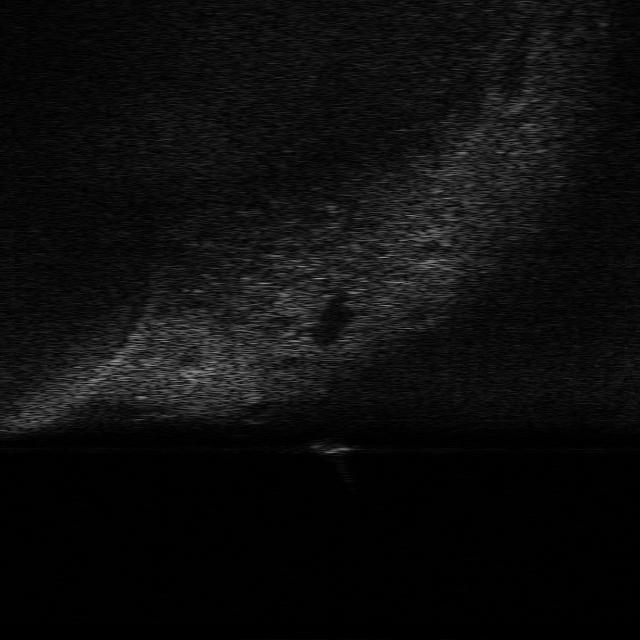cube: (306, 436, 359, 456)
